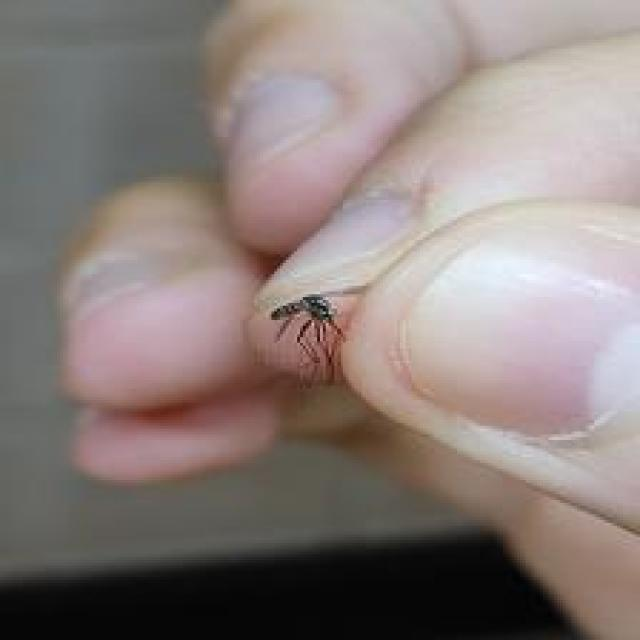Aedes albopictus: (268, 292, 348, 388)
